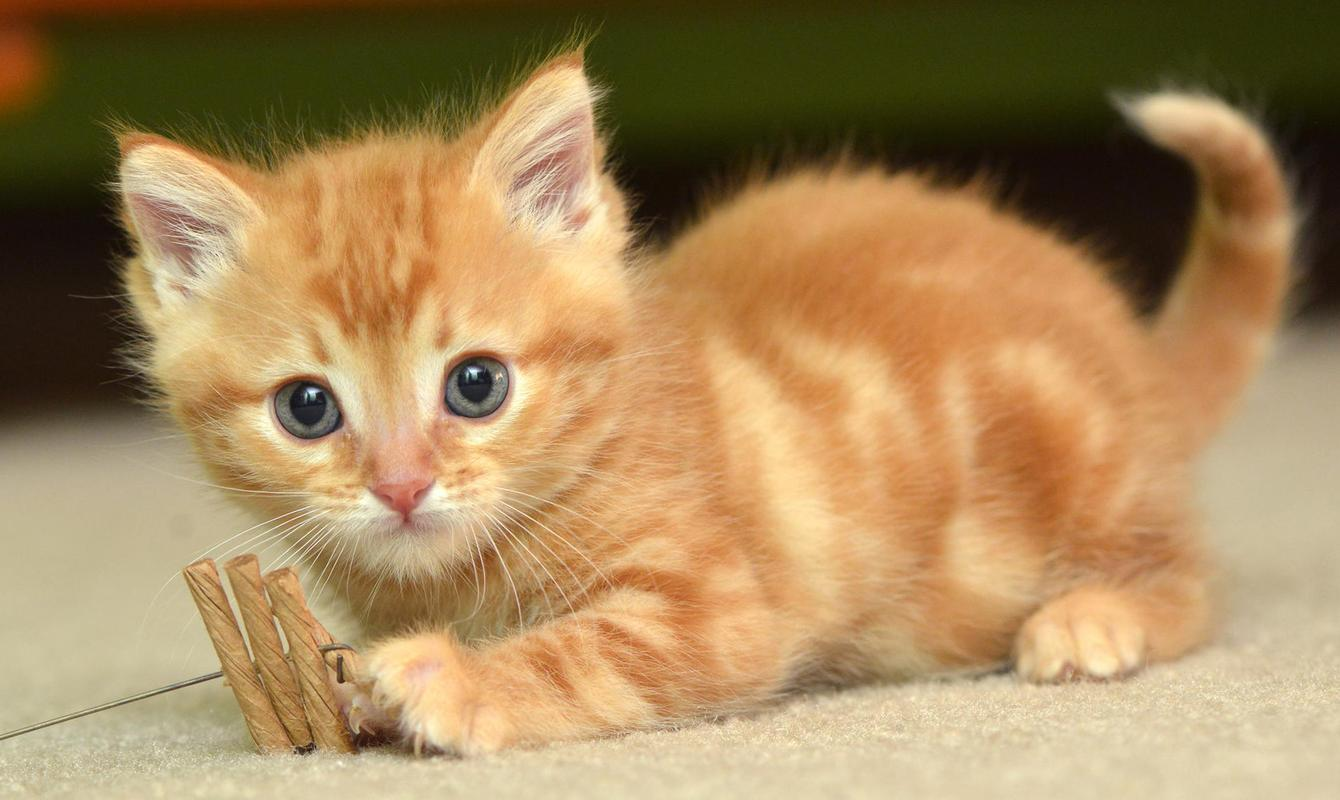cat: (120, 46, 1299, 757)
